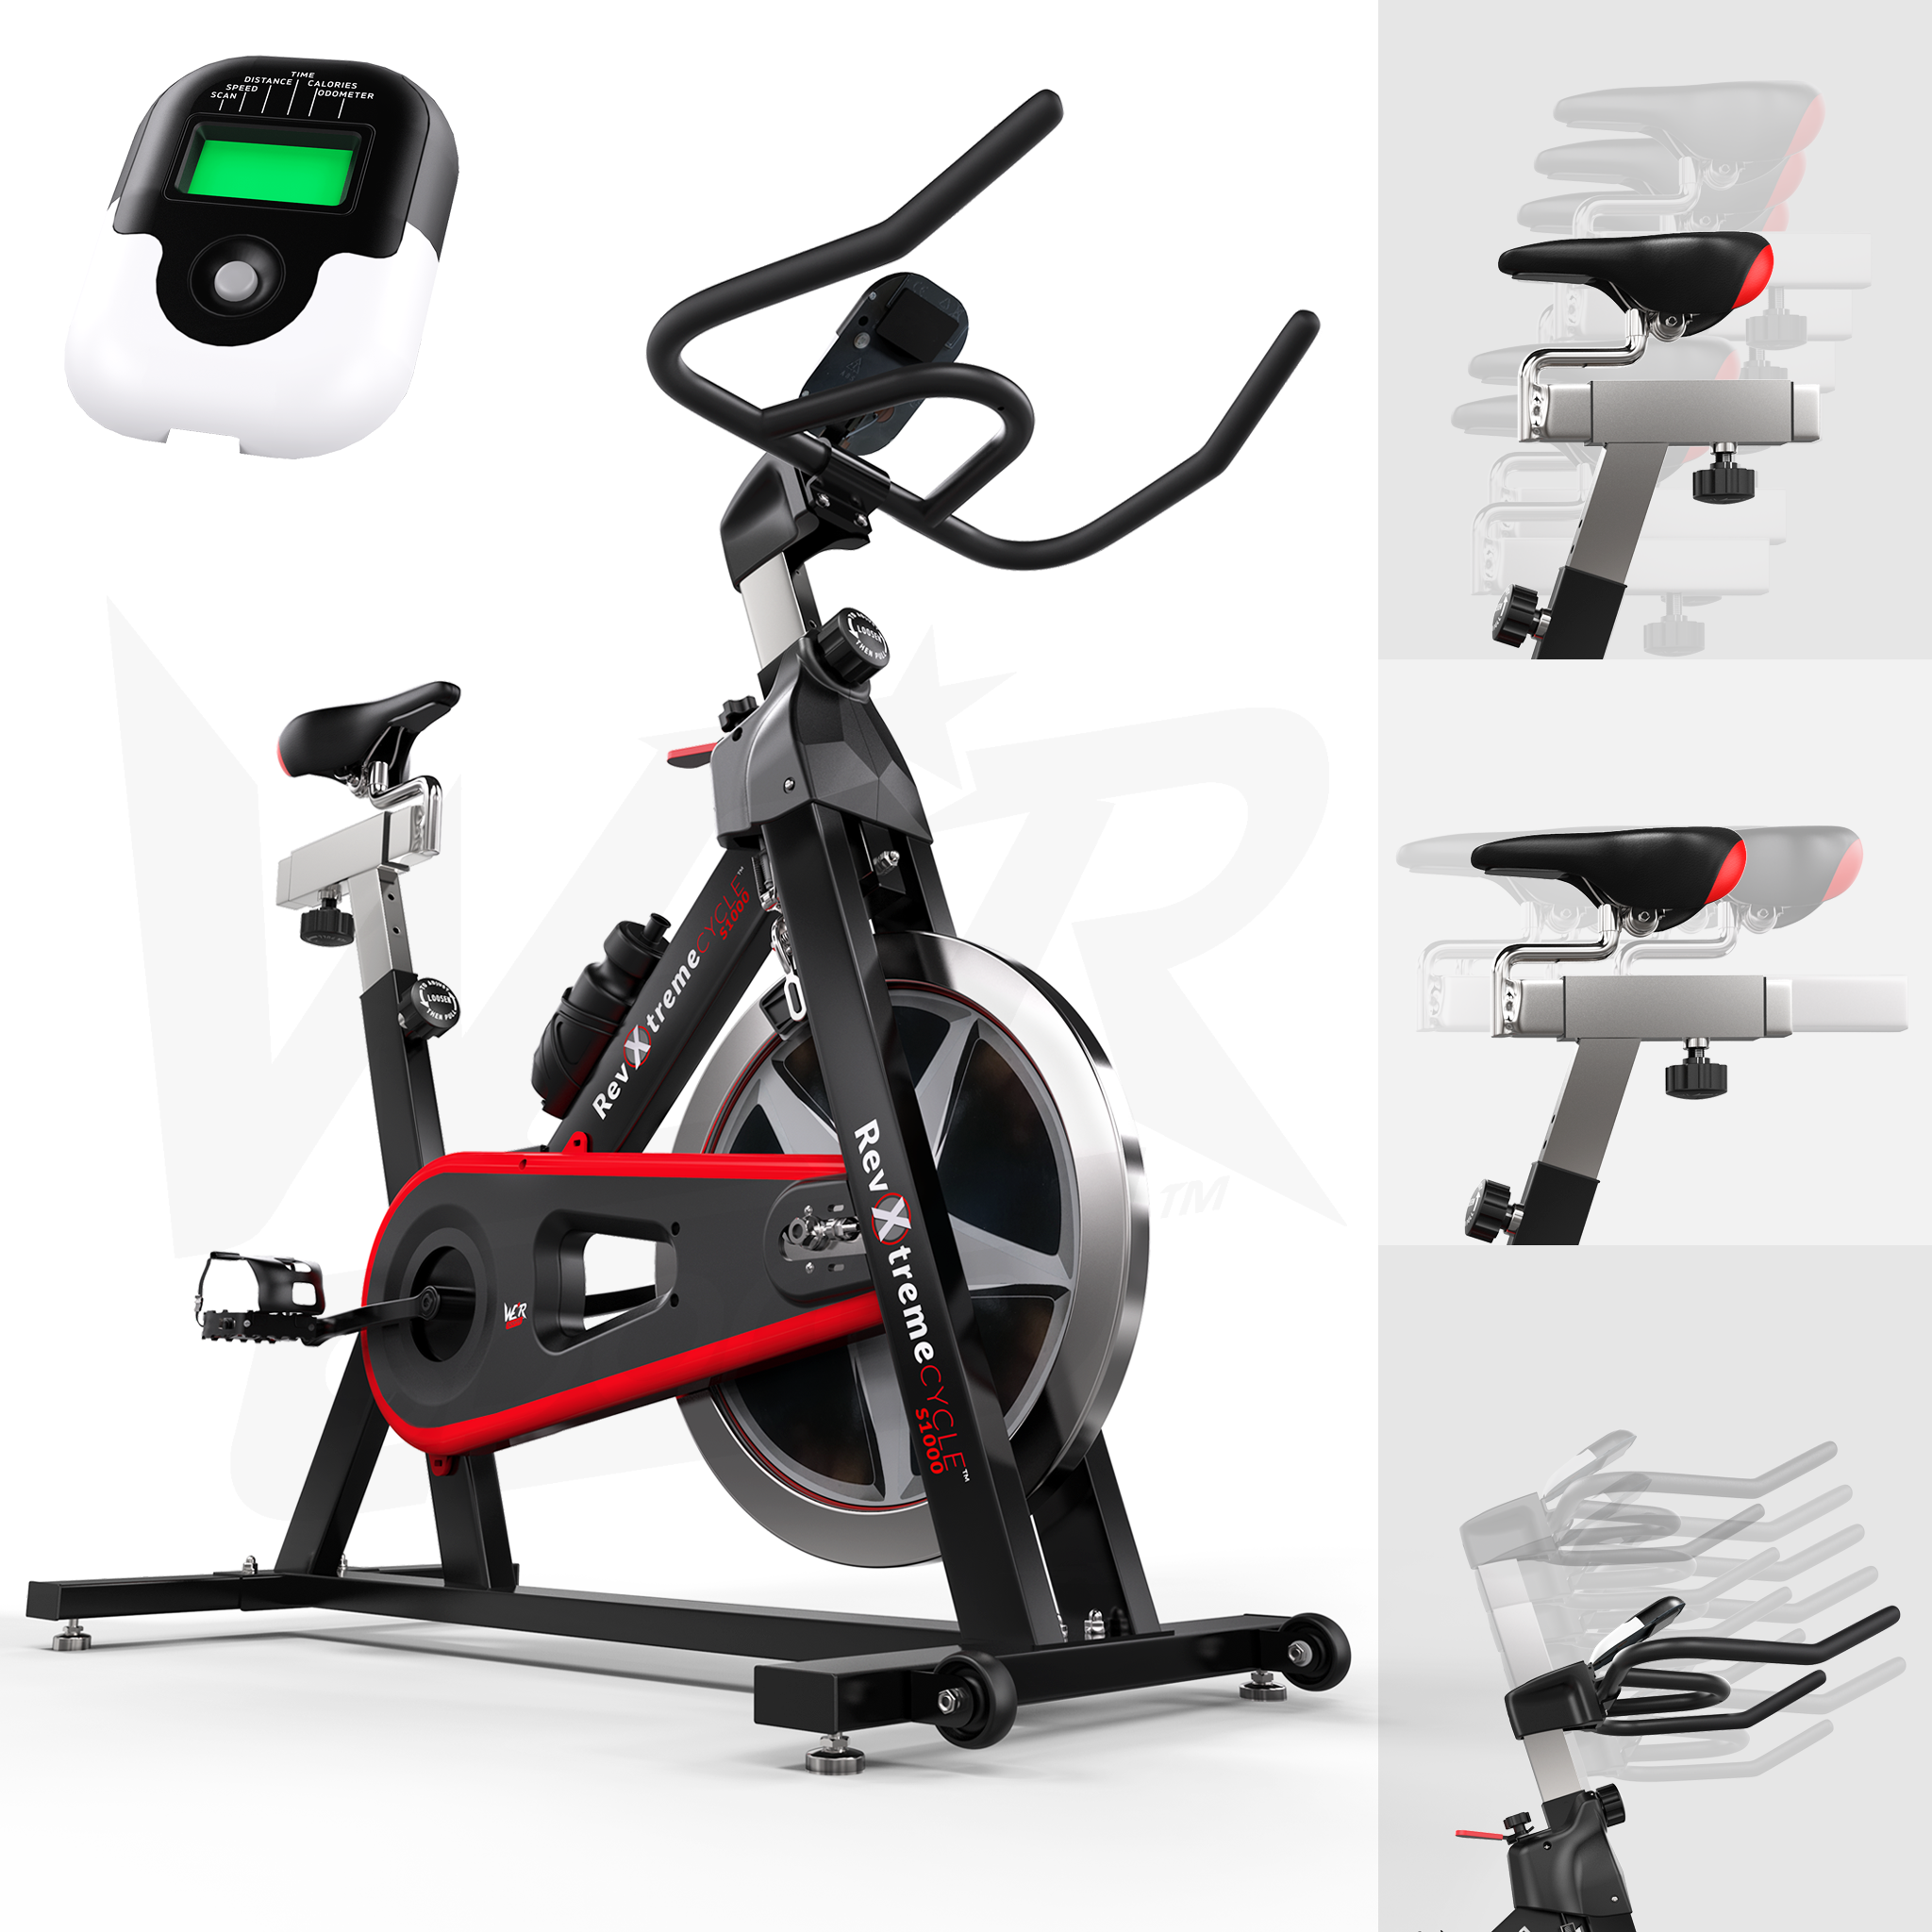gym_bike: (35, 44, 1339, 1771)
